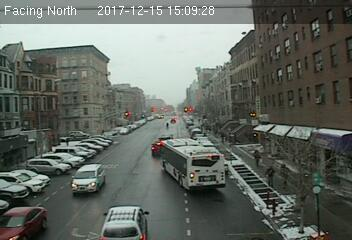bus: (161, 139, 226, 194)
car: (100, 204, 151, 240), (1, 206, 50, 238), (71, 164, 105, 194), (151, 140, 163, 154)
